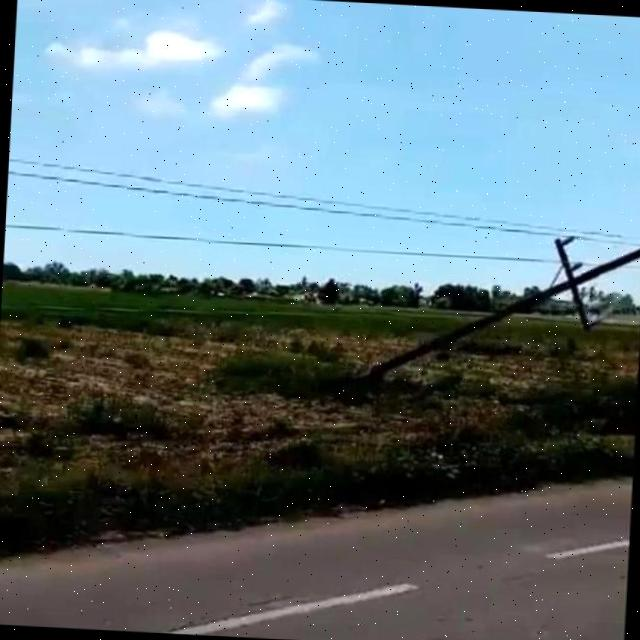Broken Pole: (367, 233, 640, 379)
